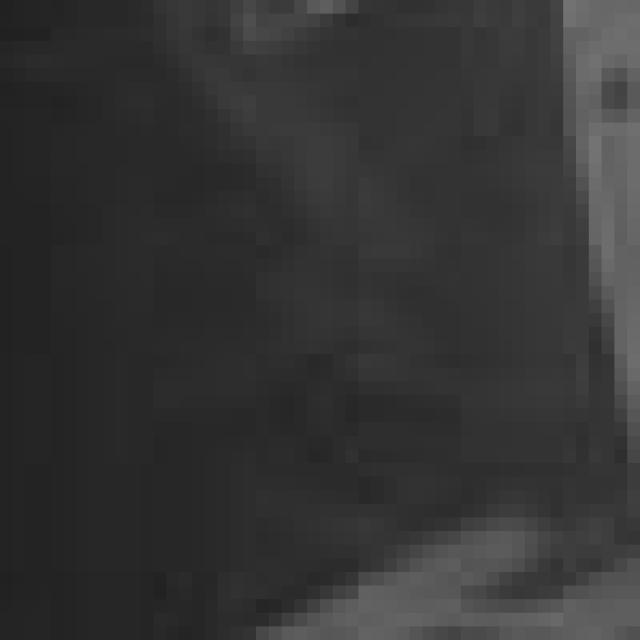fracture: (2, 0, 640, 640)
